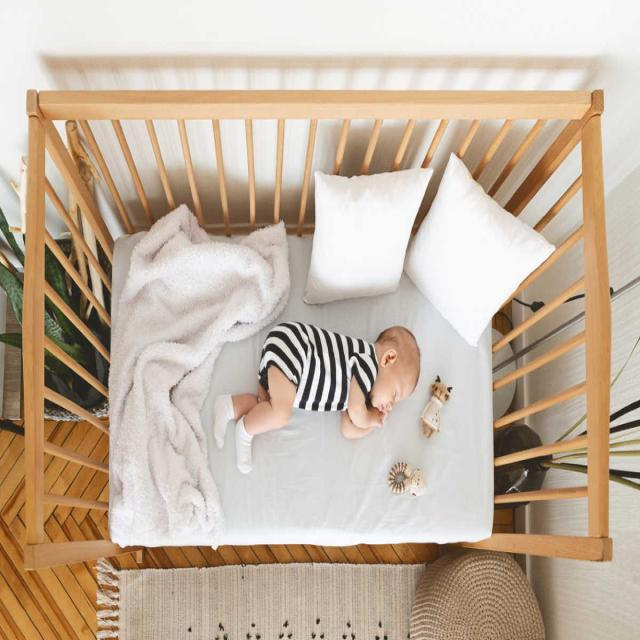crib: (19, 80, 614, 571)
